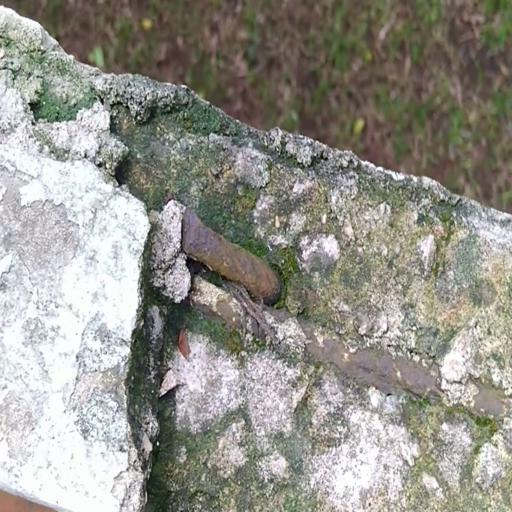spalling: (61, 63, 505, 512)
